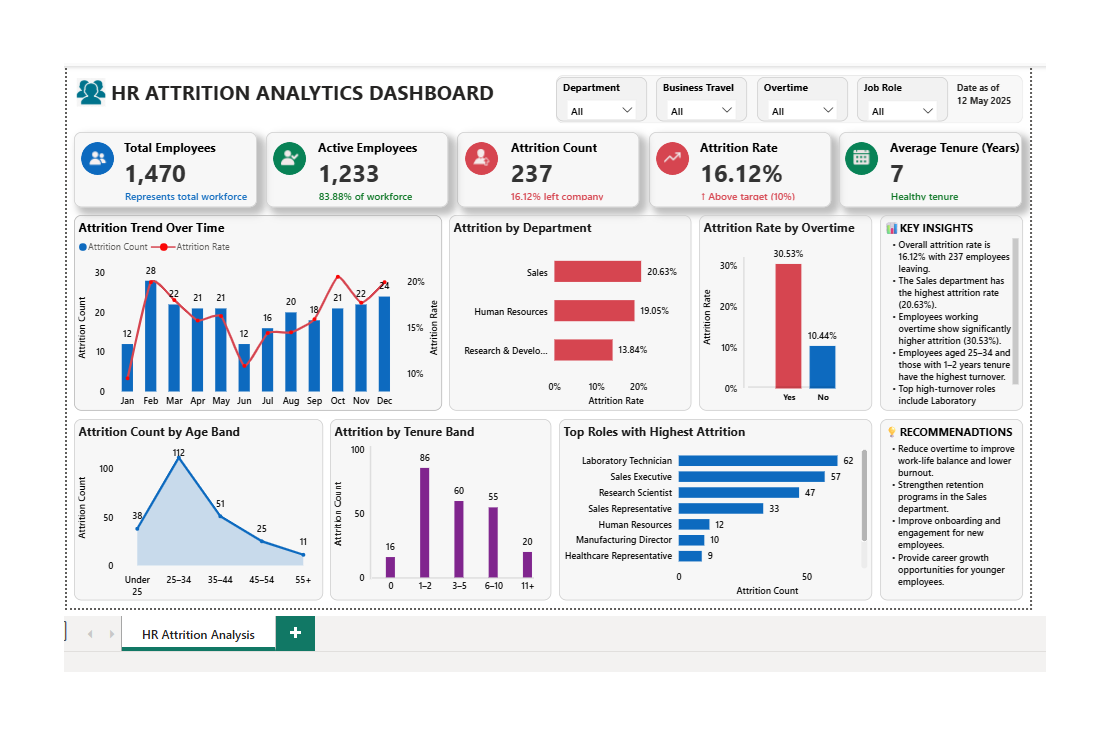

What the dashboard file says about the page in this screenshot:
{"tool":"powerbi","page":{"name":"HR Attrition Analysis","canvas":[1280,720],"ordinal":0},"visuals":[{"type":"shape","box":[649.8,11.7,620.5,64.4],"z":0},{"type":"shape","box":[19,101,44,44],"z":0,"group":"g1"},{"type":"shape","box":[273.4,101,44,44],"z":0,"group":"g2"},{"type":"shape","box":[782,101,44,44],"z":0,"group":"g3"},{"type":"shape","box":[1034,101,44,44],"z":0,"group":"g4"},{"type":"shape","box":[773,87.2,242,100],"z":1000},{"type":"image","box":[283.5,110,23,23],"z":1000,"group":"g2"},{"type":"image","box":[793,110,22,22],"z":1000,"group":"g3"},{"type":"image","box":[1044,110,22,22],"z":1000,"group":"g4"},{"type":"image","box":[29.5,110.6,23,23],"z":1000,"group":"g1"},{"type":"shape","box":[1026,87.8,242.9,100],"z":2000},{"type":"shape","box":[518,87.8,242,100],"z":3000},{"type":"textbox","box":[8.8,11,595.6,65],"z":4000},{"type":"image","box":[12,16,40,38],"z":5000},{"type":"cardVisual","title":"Avg Years at Company","fields":{"Data":["hr_attrition_clean.Avg Years at Company"]},"box":[1089,87.8,181,95],"z":6000},{"type":"cardVisual","title":"Attrition Rate","fields":{"Data":["hr_attrition_clean.Attrition Rate"]},"box":[837,87.2,181,95],"z":7000},{"type":"slicer","title":"Department","fields":{"Values":["hr_attrition_clean.department"]},"box":[650,14,121.5,59],"z":8000},{"type":"slicer","title":"Job Role","fields":{"Values":["hr_attrition_clean.job_role"]},"box":[1049.3,14,121,59],"z":9000},{"type":"slicer","title":"Business Travel","fields":{"Values":["hr_attrition_clean.business_travel"]},"box":[783,14,121,59],"z":10000},{"type":"slicer","title":"Overtime","fields":{"Values":["hr_attrition_clean.overtime"]},"box":[916,14,121.5,59],"z":11000},{"type":"cardVisual","title":"Attrition Count","fields":{"Data":["hr_attrition_clean.Attrition Count"]},"box":[586,87.8,181,95],"z":12000},{"type":"barChart","title":"Attrition by Department","fields":{"Category":["hr_attrition_clean.department"],"Y":["hr_attrition_clean.Attrition Rate"]},"box":[507.8,197.6,322,260.5],"z":13000},{"type":"clusteredColumnChart","title":"Attrition Rate by Overtime","fields":{"Y":["hr_attrition_clean.Attrition Rate"],"Category":["hr_attrition_clean.overtime"]},"box":[840,197.6,229.8,260.5],"z":14000},{"type":"clusteredColumnChart","title":"Attrition by Tenure Band","fields":{"Category":["hr_attrition_clean.Tenure Band"],"Y":["hr_attrition_clean.Attrition Count"]},"box":[349.8,468.3,294.1,241.5],"z":15000},{"type":"clusteredBarChart","title":"Top Roles with Highest Attrition","fields":{"Category":["hr_attrition_clean.job_role"],"Y":["hr_attrition_clean.Attrition Count"]},"box":[654.1,468.3,415.6,241.5],"z":16000},{"type":"lineChart","fields":{"Category":["hr_attrition_clean.Age Band"],"Y":["hr_attrition_clean.Attrition Count"]},"box":[8.8,468.3,330.7,241.5],"z":17000},{"type":"textbox","title":"📊KEY INSIGHTS","box":[1080,197.6,190.2,260.5],"z":18000},{"type":"textbox","box":[1177,14,91,60],"z":19000},{"type":"textbox","title":"💡RECOMMENADTIONS","box":[1080,468.3,190.2,241.5],"z":20000},{"type":"shape","box":[8.8,87.8,242.9,100],"z":21000},{"type":"group","id":"g1","title":"Total Emp Image","box":[19,101,44,44],"z":22000},{"type":"shape","box":[264,87.2,242,100],"z":23000},{"type":"group","id":"g2","title":"Active Emp Image","box":[273.4,101,44,44],"z":24000},{"type":"cardVisual","title":"Total Employees","fields":{"Data":["hr_attrition_clean.Total Employees"]},"box":[72,87.8,180,95],"z":25000},{"type":"cardVisual","title":"Active Employees","fields":{"Data":["hr_attrition_clean.Active Employees"]},"box":[330,87.2,180,95],"z":26000},{"type":"shape","box":[529,101,44,44],"z":27000},{"type":"image","box":[539,110,22,22],"z":28000},{"type":"group","id":"g3","title":"Active Emp Image","box":[782,101,44,44],"z":29000},{"type":"group","id":"g4","title":"Active Emp Image","box":[1034,101,44,44],"z":30000},{"type":"shape","box":[904.4,418.5,114.1,16.1],"z":31000},{"type":"shape","box":[894.1,253.2,10.2,174.1],"z":32000},{"type":"shape","box":[405.4,673,215.1,13.2],"z":33000},{"type":"shape","box":[396,504.9,14.6,177.1],"z":34000},{"type":"cardVisual","fields":{"Data":["hr_attrition_clean.Active Employee Sub KPI"]},"box":[326,159,150,24],"z":35000},{"type":"cardVisual","fields":{"Data":["hr_attrition_clean.Attrition Count Sub KPI"]},"box":[580,159,150,24.9],"z":36000},{"type":"cardVisual","fields":{"Data":["hr_attrition_clean.Attrition Status"]},"box":[833,159,150,24.9],"z":37000},{"type":"cardVisual","fields":{"Data":["hr_attrition_clean.Avg Tenure Status"]},"box":[1085,159,150,24],"z":38000},{"type":"textbox","box":[73,159.5,170,24],"z":39000},{"type":"lineClusteredColumnComboChart","title":"Attrition Trend Over Time","fields":{"Category":["DateTable.Month Short"],"Y2":["hr_attrition_clean.Attrition Rate"],"Y":["hr_attrition_clean.Attrition Count"]},"box":[8.8,197.6,488.8,260.5],"z":40000}]}

Visuals, with their boxes on the page's 1280x720 design canvas (x1, y1, x2, y2). These are canvas units, not pixel positions in the 1098x754 screenshot, which may show the page scaled, cropped or inside an application window:
shape: bbox(650, 12, 1270, 76)
shape: bbox(19, 101, 63, 145)
shape: bbox(273, 101, 317, 145)
shape: bbox(782, 101, 826, 145)
shape: bbox(1034, 101, 1078, 145)
shape: bbox(773, 87, 1015, 187)
image: bbox(284, 110, 306, 133)
image: bbox(793, 110, 815, 132)
image: bbox(1044, 110, 1066, 132)
image: bbox(30, 111, 52, 134)
shape: bbox(1026, 88, 1269, 188)
shape: bbox(518, 88, 760, 188)
textbox: bbox(9, 11, 604, 76)
image: bbox(12, 16, 52, 54)
"Avg Years at Company" cardVisual: bbox(1089, 88, 1270, 183)
"Attrition Rate" cardVisual: bbox(837, 87, 1018, 182)
"Department" slicer: bbox(650, 14, 772, 73)
"Job Role" slicer: bbox(1049, 14, 1170, 73)
"Business Travel" slicer: bbox(783, 14, 904, 73)
"Overtime" slicer: bbox(916, 14, 1038, 73)
"Attrition Count" cardVisual: bbox(586, 88, 767, 183)
"Attrition by Department" barChart: bbox(508, 198, 830, 458)
"Attrition Rate by Overtime" clusteredColumnChart: bbox(840, 198, 1070, 458)
"Attrition by Tenure Band" clusteredColumnChart: bbox(350, 468, 644, 710)
"Top Roles with Highest Attrition" clusteredBarChart: bbox(654, 468, 1070, 710)
lineChart - hr_attrition_clean.Age Band x hr_attrition_clean.Attrition Count: bbox(9, 468, 340, 710)
"📊KEY INSIGHTS" textbox: bbox(1080, 198, 1270, 458)
textbox: bbox(1177, 14, 1268, 74)
"💡RECOMMENADTIONS" textbox: bbox(1080, 468, 1270, 710)
shape: bbox(9, 88, 252, 188)
"Total Emp Image" group: bbox(19, 101, 63, 145)
shape: bbox(264, 87, 506, 187)
"Active Emp Image" group: bbox(273, 101, 317, 145)
"Total Employees" cardVisual: bbox(72, 88, 252, 183)
"Active Employees" cardVisual: bbox(330, 87, 510, 182)
shape: bbox(529, 101, 573, 145)
image: bbox(539, 110, 561, 132)
"Active Emp Image" group: bbox(782, 101, 826, 145)
"Active Emp Image" group: bbox(1034, 101, 1078, 145)
shape: bbox(904, 418, 1018, 435)
shape: bbox(894, 253, 904, 427)
shape: bbox(405, 673, 620, 686)
shape: bbox(396, 505, 411, 682)
cardVisual - hr_attrition_clean.Active Employee Sub KPI: bbox(326, 159, 476, 183)
cardVisual - hr_attrition_clean.Attrition Count Sub KPI: bbox(580, 159, 730, 184)
cardVisual - hr_attrition_clean.Attrition Status: bbox(833, 159, 983, 184)
cardVisual - hr_attrition_clean.Avg Tenure Status: bbox(1085, 159, 1235, 183)
textbox: bbox(73, 160, 243, 184)
"Attrition Trend Over Time" lineClusteredColumnComboChart: bbox(9, 198, 498, 458)
